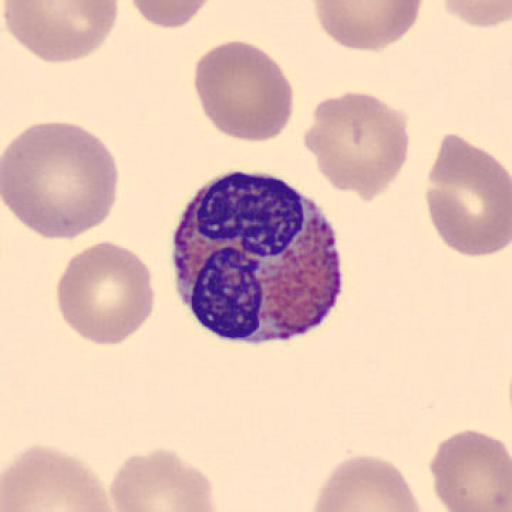RBC: (1, 119, 120, 243), (303, 90, 411, 204), (191, 39, 295, 144), (54, 239, 156, 346), (425, 132, 512, 257), (0, 443, 118, 512), (3, 0, 119, 65), (109, 447, 220, 512), (428, 427, 512, 512), (310, 453, 424, 512), (313, 0, 424, 52), (128, 0, 215, 30), (442, 0, 512, 30)
WBC: (168, 171, 347, 344)
